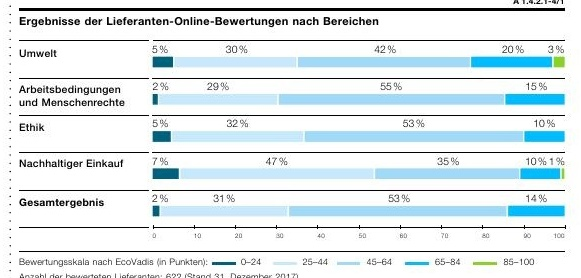table: (0, 0, 581, 278)
